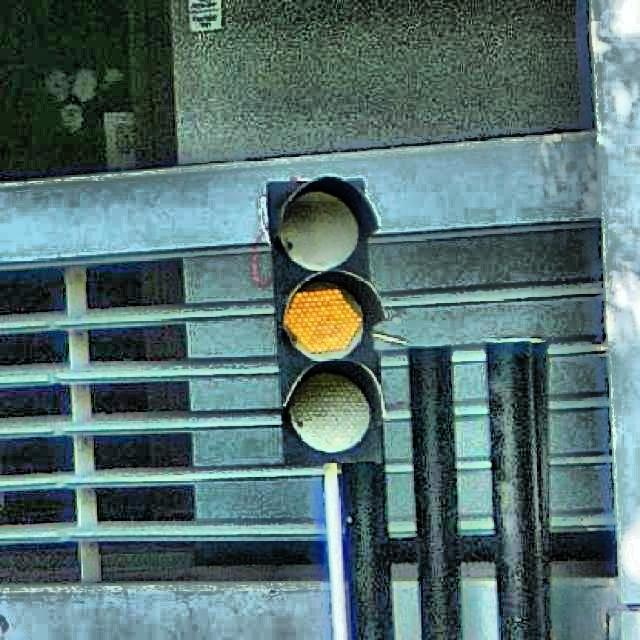yellow: (268, 178, 387, 466)
